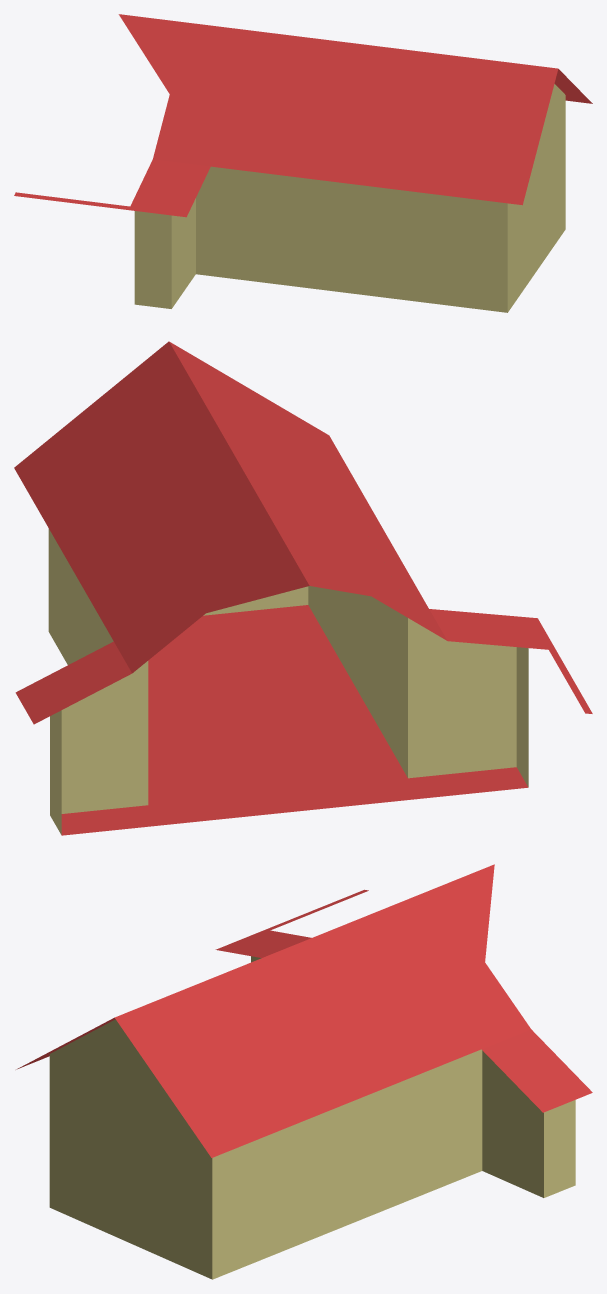
3 renders of one model, top to bottom at view 1: azimuth 30°, elevation 25°; view 2: azimuth 150°, elevation 25°; view 3: azimuth 270°, elevation 25°, orthographic. The views are drawn at different scales.
Bounding box in the file's own units: 40.3 × 34.41 × 15.36.
